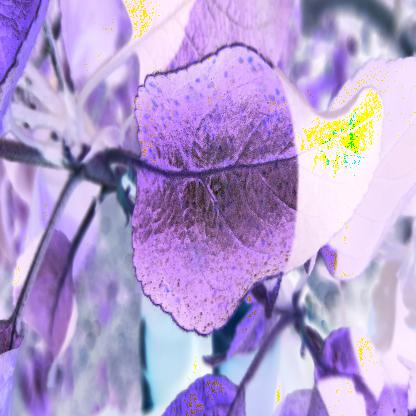apple rust leaf: (132, 45, 398, 334)
